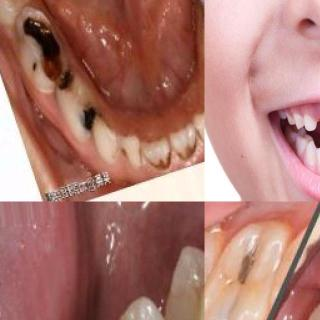cavities: (29, 27, 60, 83), (55, 62, 80, 96), (82, 110, 96, 130)
stains: (150, 152, 172, 170), (178, 143, 196, 162), (193, 122, 205, 146), (120, 150, 128, 162)
